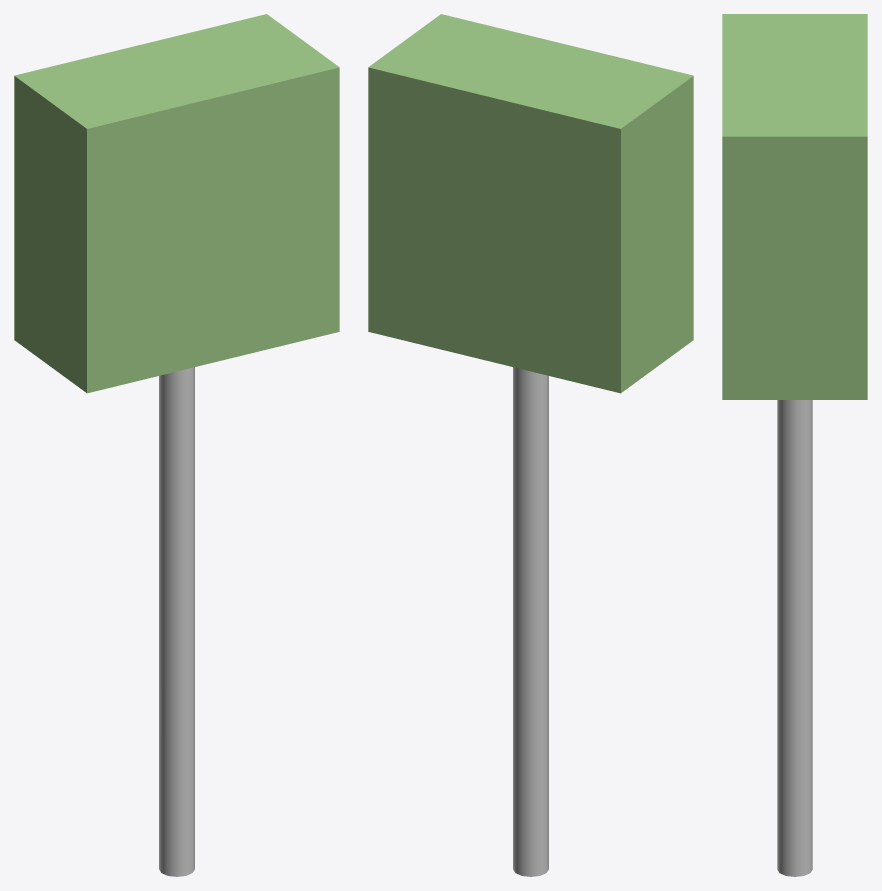
File: 3D_LollyPop_Sqaure_Green.FBX
3 renders of one model, left to right at view 1: azimuth 30°, elevation 25°; view 2: azimuth 150°, elevation 25°; view 3: azimuth 270°, elevation 25°, orthographic.
Visible parts, largest first — view 1: 3D_LolyPop_Square_Green; view 2: 3D_LolyPop_Square_Green; view 3: 3D_LolyPop_Square_Green.
Part boxes in pixels (left/top/right/bottom): 3D_LolyPop_Square_Green: left=14, top=14, right=339, bottom=876; 3D_LolyPop_Square_Green: left=368, top=14, right=693, bottom=876; 3D_LolyPop_Square_Green: left=722, top=14, right=867, bottom=876.
Bounding box in the file's own units: 20 × 60.36 × 10.
